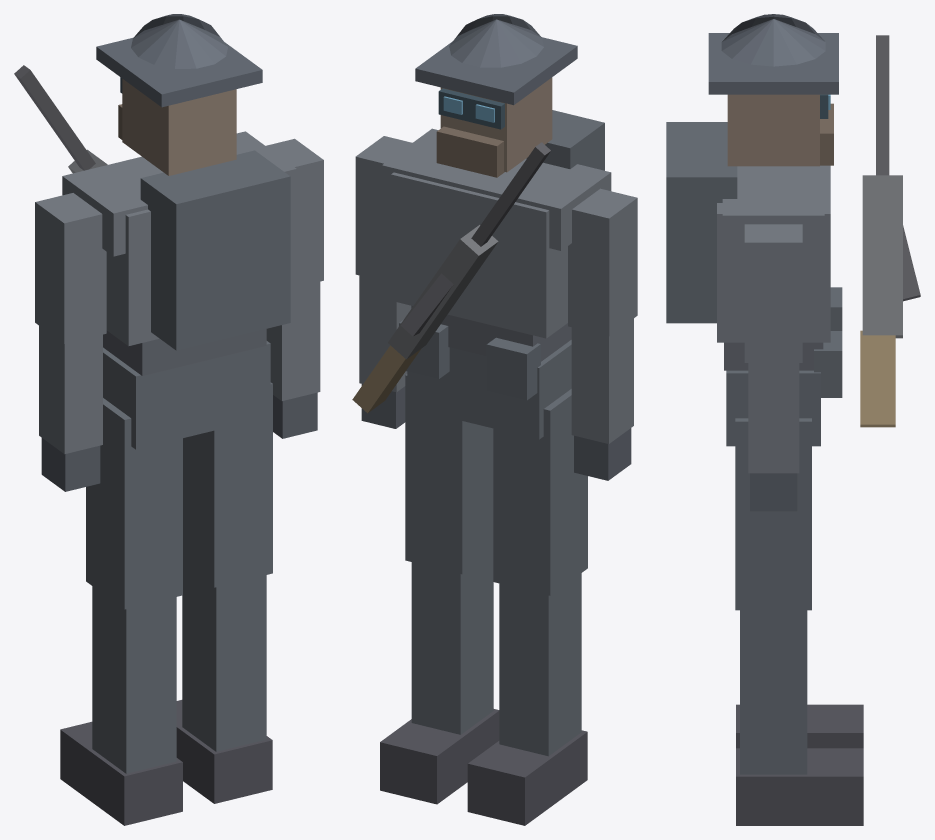
File: western_stalker.glb
3 renders of one model, left to right at view 1: azimuth 30°, elevation 25°; view 2: azimuth 150°, elevation 25°; view 3: azimuth 270°, elevation 25°, orthographic. The views are drawn at different scales.
Visible parts, largest first — view 1: Pack, LegLeft, ShinLeft, ShinRight, LegRight, Pelvis, ArmLeft, Head, ForearmLeft, Boot, Yoke, HelmetRim (+9 smaller); view 2: Body, LegLeft, ShinLeft, ShinRight, LegRight, ArmLeft, Pelvis, Yoke, Boot, Boot.001, ForearmLeft, HelmetRim (+16 smaller); view 3: Pack, ShinRight, LegRight, Boot.001, ArmRight, Yoke, Head, Rifle, Body, ForearmRight, HelmetRim, Helmet (+10 smaller).
Boxes of the visible parts, box(x1,y1,x2,y2) form: Pack: box(140, 150, 290, 350); LegLeft: box(86, 398, 182, 609); ShinLeft: box(92, 586, 176, 773); ShinRight: box(182, 565, 266, 751); LegRight: box(183, 382, 272, 587); Pelvis: box(103, 341, 270, 449); ArmLeft: box(35, 193, 106, 343); Head: box(122, 79, 236, 175); ForearmLeft: box(39, 326, 102, 454); Boot: box(60, 721, 182, 825); Yoke: box(62, 131, 296, 256); HelmetRim: box(96, 38, 262, 107); Body: box(391, 172, 567, 338); LegLeft: box(493, 389, 587, 595); ShinLeft: box(499, 573, 581, 756); ShinRight: box(411, 552, 493, 734); LegRight: box(405, 374, 493, 574); ArmLeft: box(568, 188, 637, 336); Pelvis: box(407, 340, 571, 439); Yoke: box(382, 128, 611, 250); Boot: box(467, 730, 587, 825); Boot.001: box(380, 709, 499, 804); ForearmLeft: box(571, 318, 633, 443); HelmetRim: box(415, 37, 577, 105); Pack: box(666, 122, 737, 323); ShinRight: box(740, 610, 807, 774); LegRight: box(735, 418, 811, 610); Boot.001: box(736, 748, 863, 825); ArmRight: box(744, 224, 802, 362); Yoke: box(722, 165, 824, 258); Head: box(727, 94, 819, 166); Rifle: box(862, 175, 902, 338); Body: box(717, 165, 830, 342); ForearmRight: box(748, 363, 799, 473); HelmetRim: box(708, 33, 838, 94); Helmet: box(721, 14, 825, 66).
Bounding box in the file's own units: 0.6307 × 1.8 × 0.5372.
